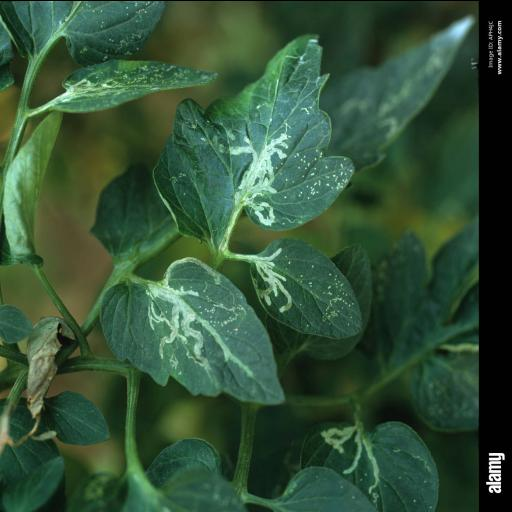Leaf Miner: (146, 30, 354, 242), (98, 255, 286, 410), (248, 236, 366, 340)
